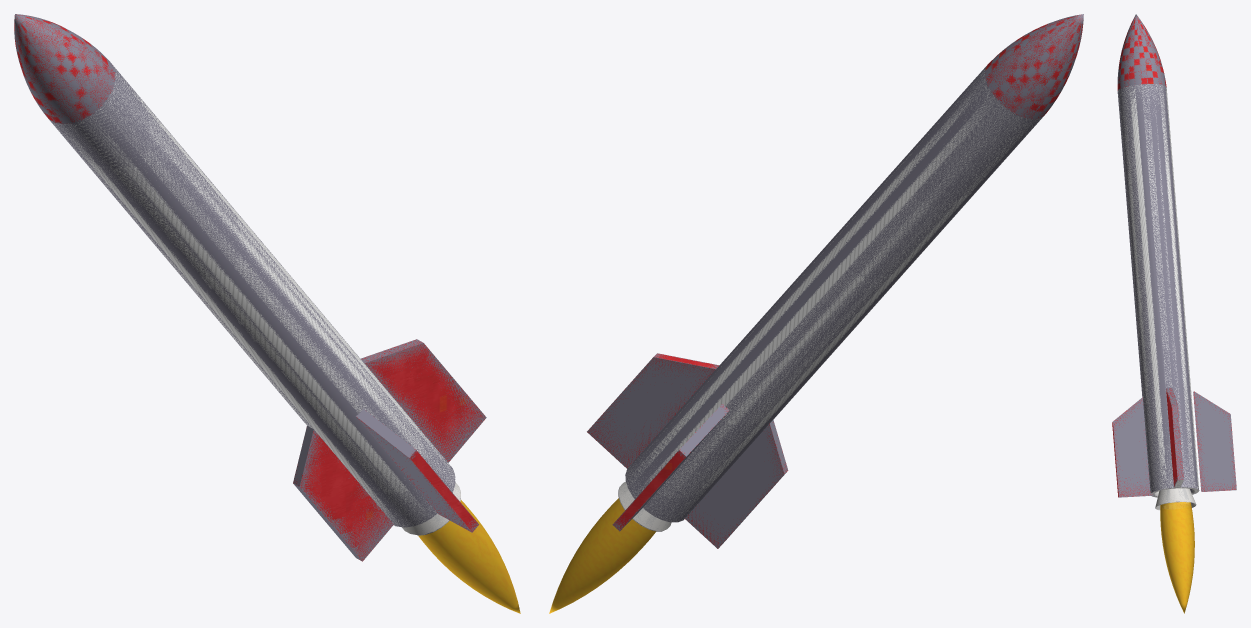
The model's file is rocket.fbx.
3 views of the same model, side by side, from view 1: azimuth 30°, elevation 25°; view 2: azimuth 150°, elevation 25°; view 3: azimuth 270°, elevation 25° (orthographic). The views are drawn at different scales.
Visible parts, largest first — view 1: missile_rocket1; view 2: missile_rocket1; view 3: missile_rocket1.
Part boxes in pixels (x1,y1,x2,y2): missile_rocket1: (14, 14, 520, 613); missile_rocket1: (549, 14, 1083, 613); missile_rocket1: (1112, 14, 1236, 613).
Size of the model in its own units: 6.41 by 8.55 by 2.17.
